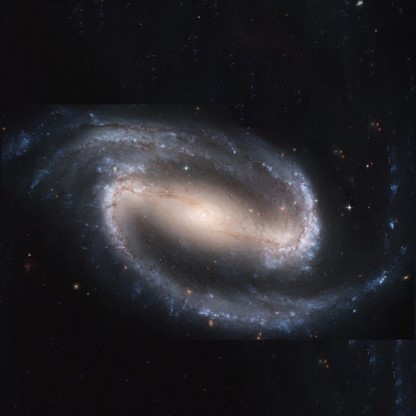NGC 1300: (12, 108, 408, 337)
